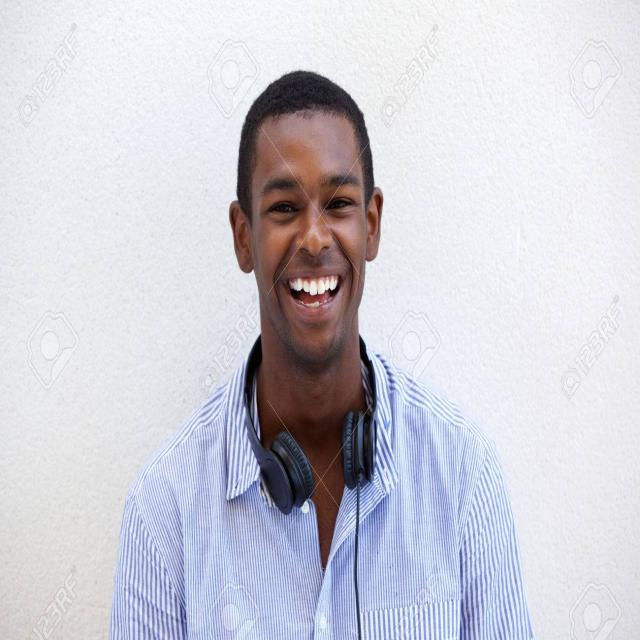sem_oculos: (229, 172, 374, 228)
